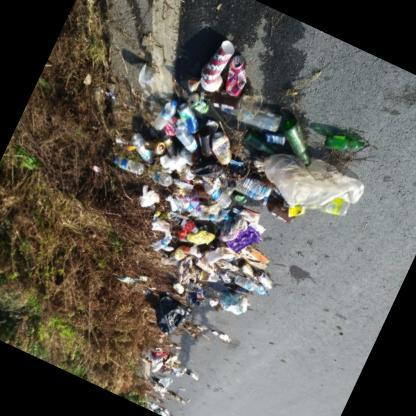Garbage: (88, 7, 410, 362), (115, 106, 321, 322), (250, 138, 370, 236), (140, 288, 257, 375), (181, 29, 272, 121), (192, 197, 283, 276), (136, 340, 209, 392), (140, 284, 194, 340), (108, 126, 158, 184), (154, 245, 208, 295), (142, 366, 197, 409), (206, 283, 254, 323), (124, 53, 166, 98), (138, 176, 178, 216)
